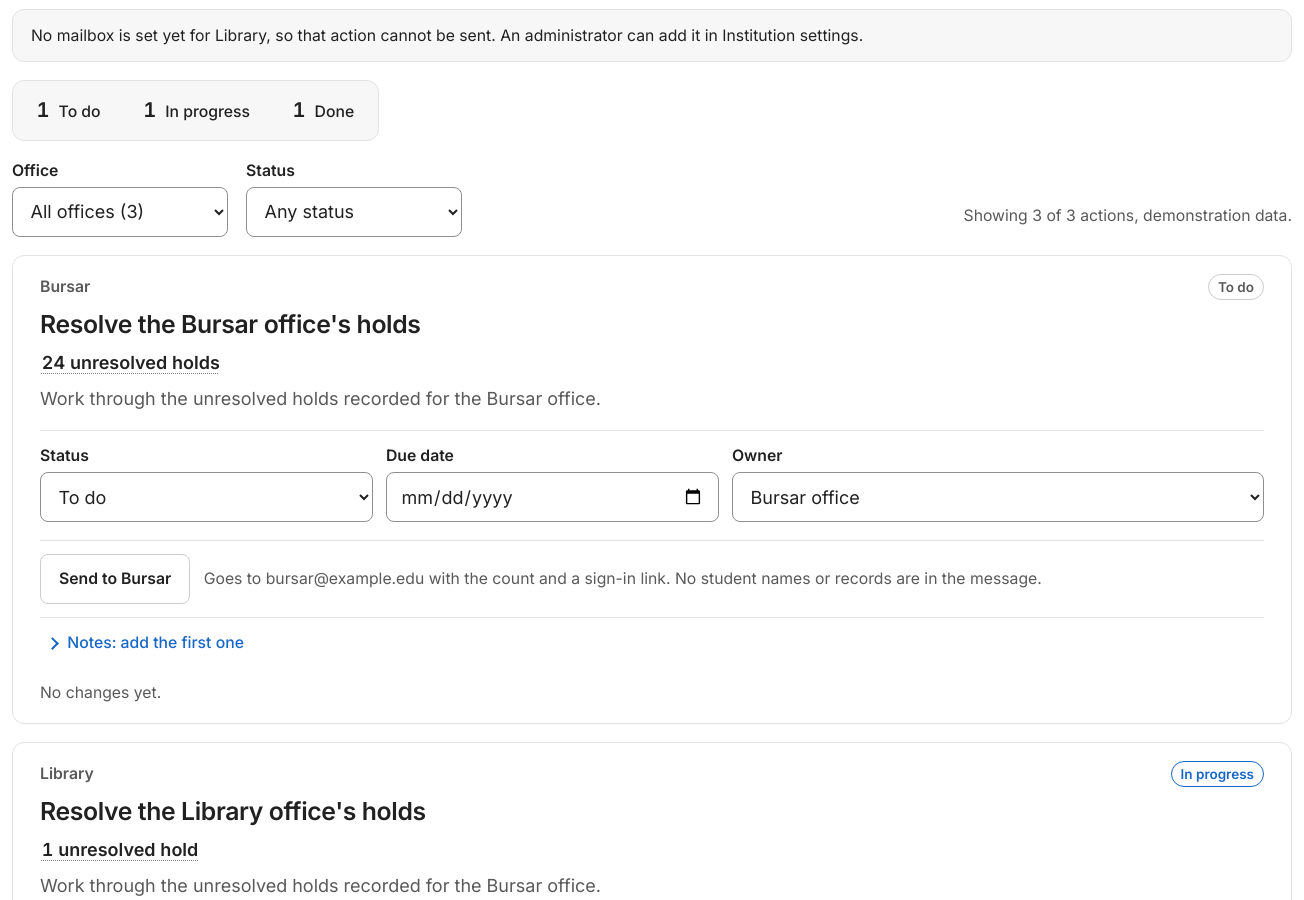
Scenario: Staff actions page › keeps the choices when someone else saved first, and shows the latest
Check: the element "Resolve the Bursar office's holds" is shown, box [12, 255, 1292, 724]
Select "In progress" in the dropdown labelled "Status" below "Resolve the Bursar office's holds" at (206, 497), box [40, 472, 372, 522]
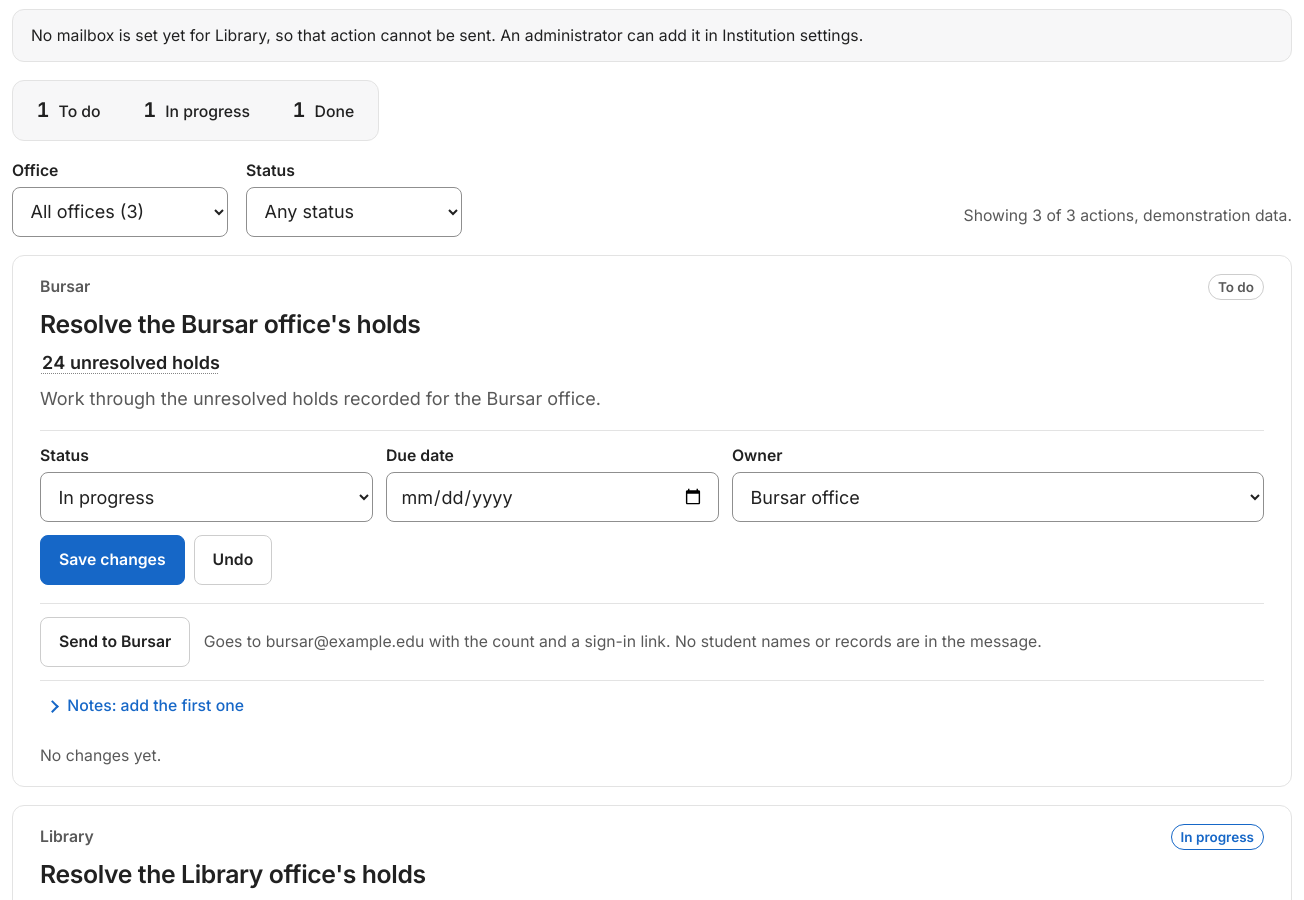
Click the button "Save changes".
click(112, 560)  # box [40, 536, 185, 585]
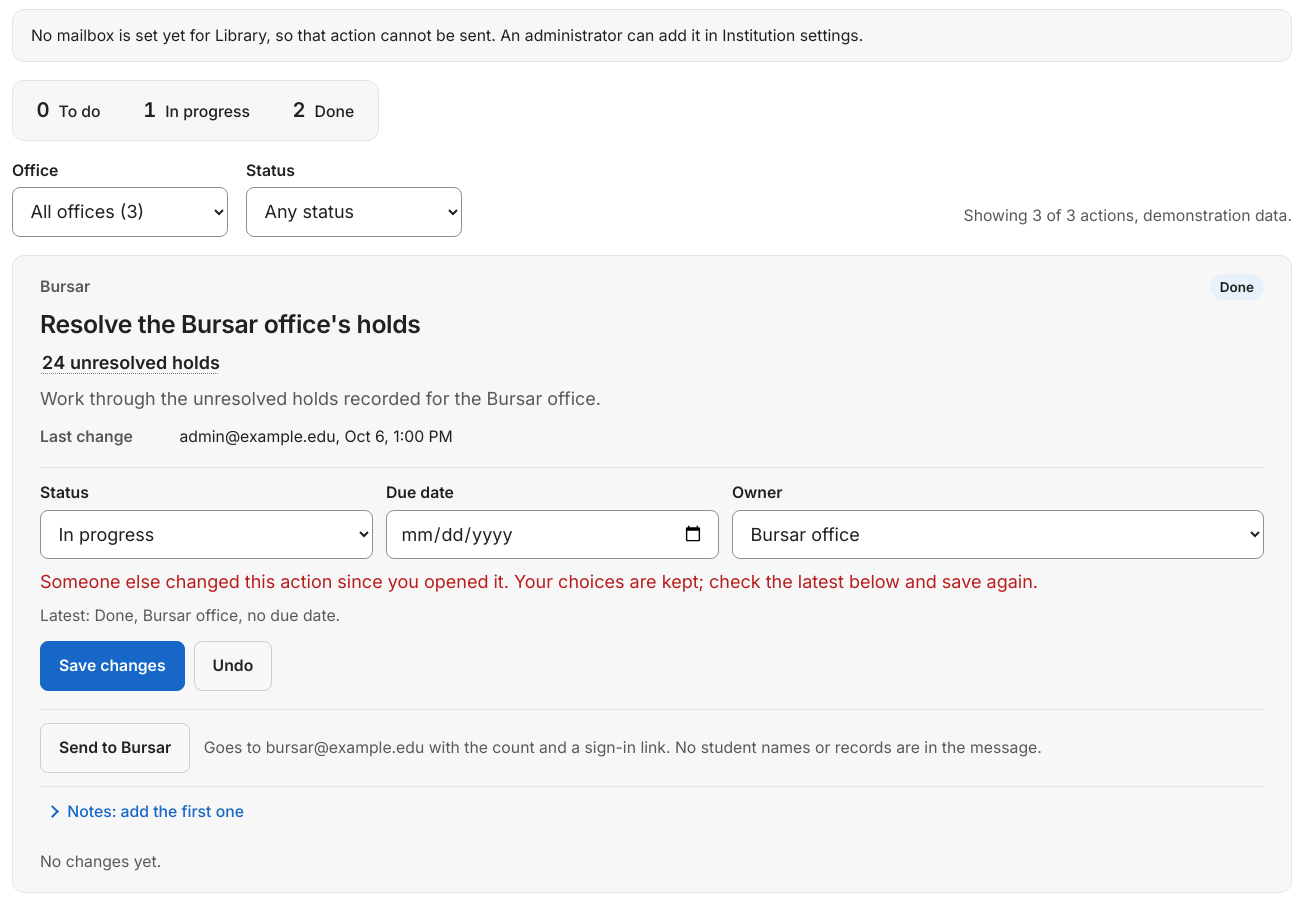
Check: the button "Save changes" is shown, box [40, 641, 185, 691]
Check: the text "Someone else changed this action since you opened it" is shown, box [40, 571, 1038, 592]
Check: the element "Resolve the Bursar office's holds" shows "Latest: Done, Bursar office, no due date."
